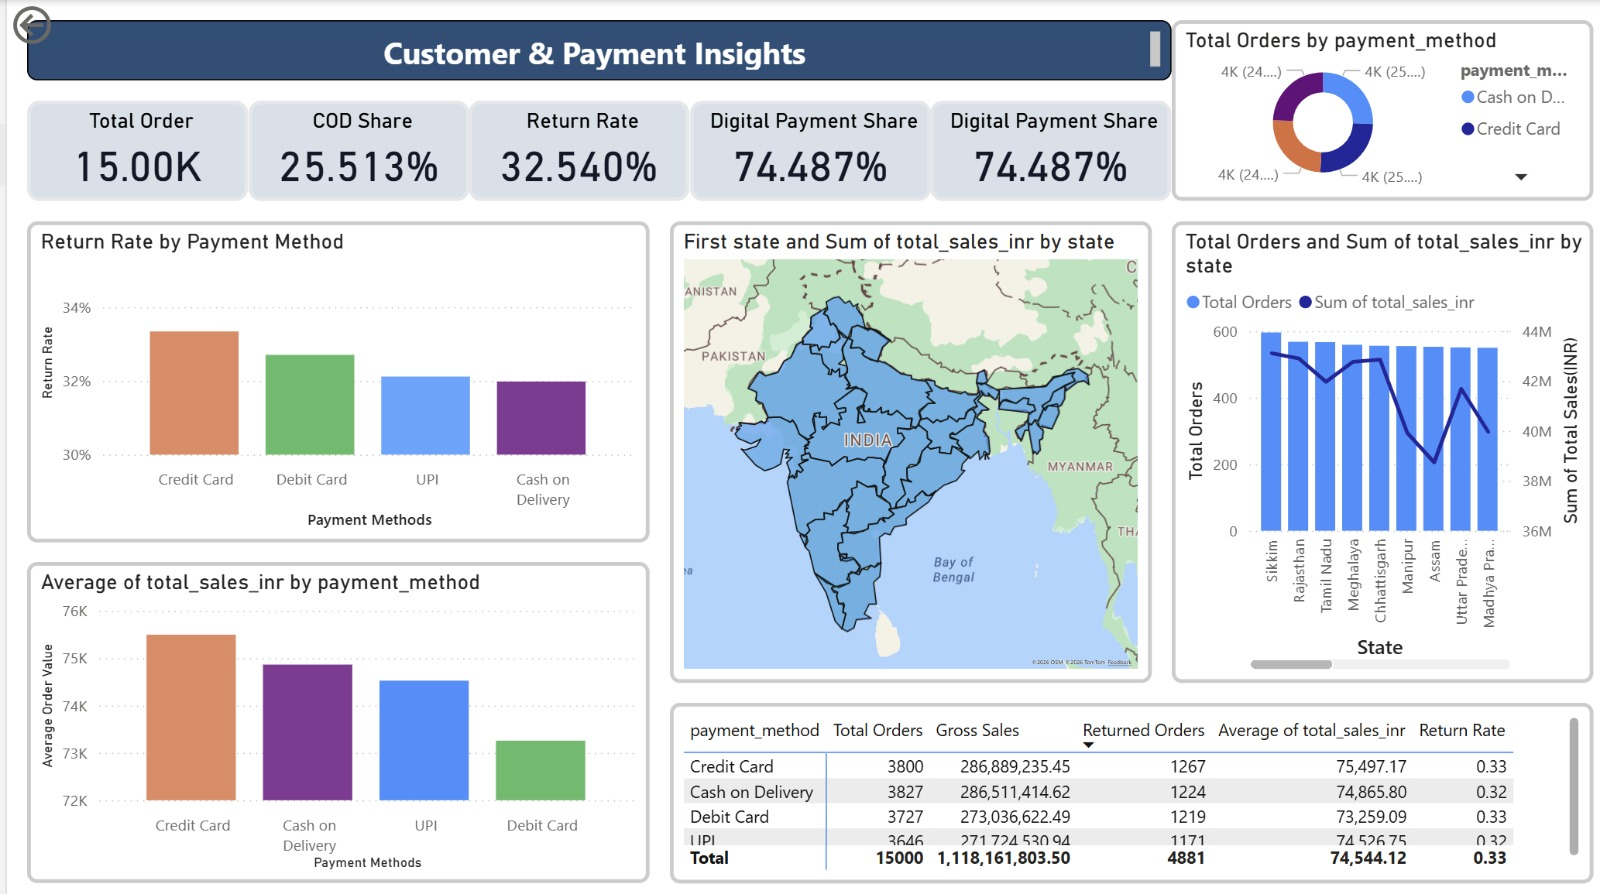

What the dashboard file says about the page in this screenshot:
{"tool":"powerbi","page":{"name":"Customer & Payment Insights","canvas":[1280,720],"ordinal":2},"visuals":[{"type":"textbox","box":[16,16,912,48],"z":0},{"type":"card","title":"Total Order","fields":{"Values":["CountNonNull(dm_fact_sales.order_id)"]},"box":[16,80,176,80],"z":1000},{"type":"card","title":"COD Share","fields":{"Values":["dim_customer.COD Shares","select"]},"box":[192,80,176,80],"z":2000},{"type":"card","title":"Return Rate","fields":{"Values":["select","dim_customer.Return Rate","select1"]},"box":[368,80,176,80],"z":3000},{"type":"card","title":"Digital Payment Share","fields":{"Values":["select","select1","dim_customer.Digital Share"]},"box":[544,80,192,80],"z":4000},{"type":"card","title":"Digital Payment Share","fields":{"Values":["select","select1","dim_customer.Digital Share"]},"box":[736,80,192,80],"z":5000},{"type":"actionButton","box":[0,0,100,40],"z":6000},{"type":"donutChart","fields":{"Category":["dim_payment.payment_method"],"Y":["dim_customer.Total Orders"]},"box":[928,16,336,144],"z":7000},{"type":"clusteredColumnChart","title":"Return Rate by Payment Method","fields":{"Category":["dim_payment.payment_method"],"Y":["dim_customer.Return Rate"]},"box":[16,176,496,256],"z":8000},{"type":"clusteredColumnChart","fields":{"Category":["dim_payment.payment_method"],"Y":["Avg(dm_fact_sales.total_sales_inr)"]},"box":[16,448,496,256],"z":9000},{"type":"pivotTable","fields":{"Rows":["dim_payment.payment_method"],"Values":["dim_customer.Total Orders","dim_customer.Gross Sales","dim_customer.Returned Orders","Avg(dm_fact_sales.total_sales_inr)","dim_customer.Return Rate"]},"box":[528,560,736,144],"z":10000},{"type":"azureMap","fields":{"Category":["dim_region.state"],"Y":["Min(dim_region.state)"]},"box":[528,176,384,368],"z":11000},{"type":"lineStackedColumnComboChart","fields":{"Y":["dim_customer.Total Orders"],"Y2":["Sum(dm_fact_sales.total_sales_inr)"],"Category":["dim_region.state"]},"box":[928,176,336,368],"z":12000}]}

Visuals, with their boxes in screenshot pixels (x1, y1, x2, y2), scaled from the page's 1280x720 canvas onto the 1600x894 screenshot:
textbox: 20, 20, 1160, 79
"Total Order" card: 20, 99, 240, 199
"COD Share" card: 240, 99, 460, 199
"Return Rate" card: 460, 99, 680, 199
"Digital Payment Share" card: 680, 99, 920, 199
"Digital Payment Share" card: 920, 99, 1160, 199
actionButton: 0, 0, 125, 50
donutChart - dim_payment.payment_method x dim_customer.Total Orders: 1160, 20, 1580, 199
"Return Rate by Payment Method" clusteredColumnChart: 20, 219, 640, 536
clusteredColumnChart - dim_payment.payment_method x Avg(dm_fact_sales.total_sales_inr): 20, 556, 640, 874
pivotTable - dim_payment.payment_method x dim_customer.Total Orders: 660, 695, 1580, 874
azureMap - dim_region.state x Min(dim_region.state): 660, 219, 1140, 675
lineStackedColumnComboChart - dim_customer.Total Orders x Sum(dm_fact_sales.total_sales_inr): 1160, 219, 1580, 675
